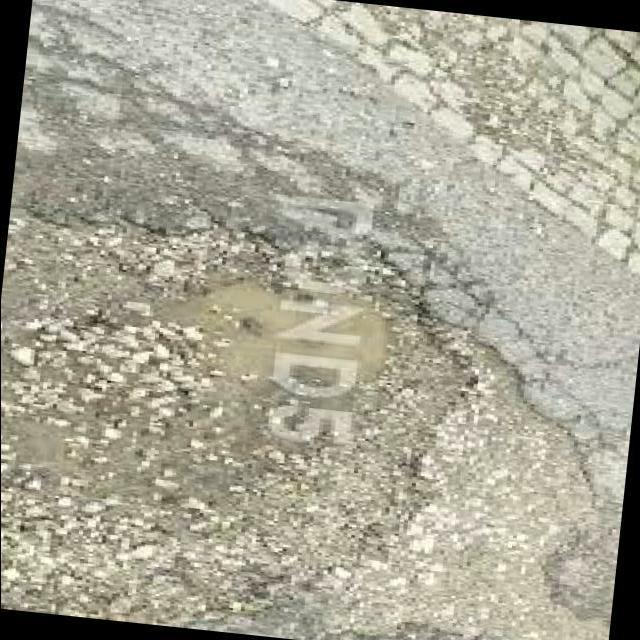pothole: (7, 258, 456, 447)
